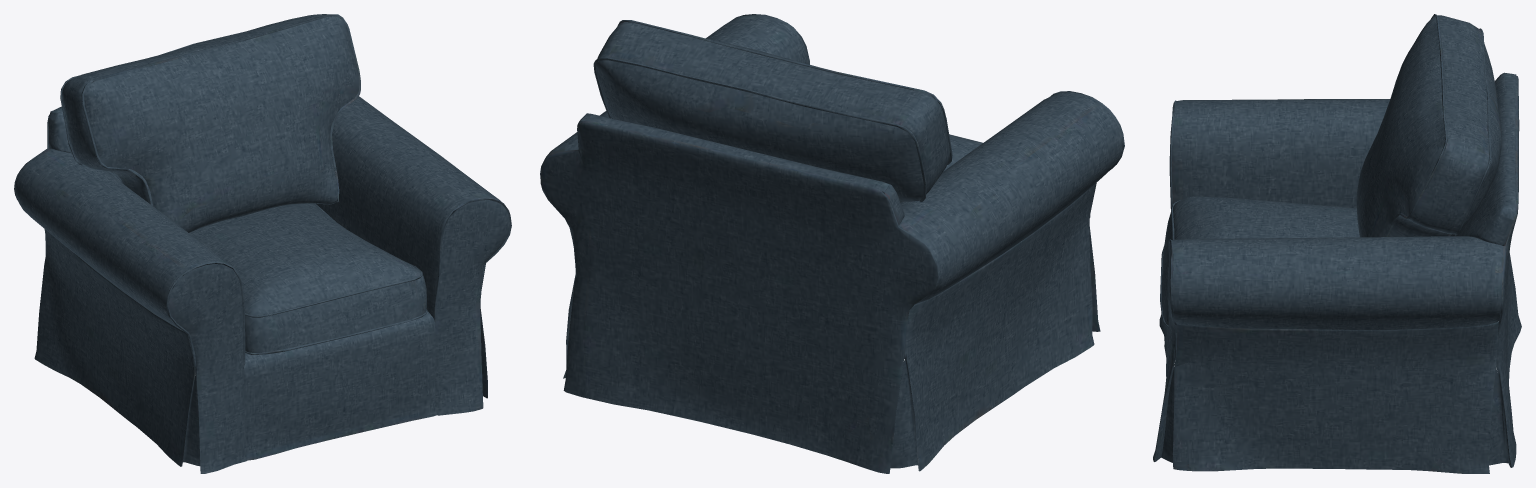
Rendered from uppland_armchair_kilanda_dark_blue.glb.
3 renders of one model, left to right at view 1: azimuth 30°, elevation 25°; view 2: azimuth 150°, elevation 25°; view 3: azimuth 270°, elevation 25°, orthographic. The views are drawn at different scales.
Parts seen in each view (by area): view 1: Mesh_0; view 2: Mesh_0; view 3: Mesh_0.
Boxes of the visible parts, x1,y1,x2,y2 form: Mesh_0: (14,14,511,473); Mesh_0: (540,14,1124,473); Mesh_0: (1153,14,1521,473).
Bounding box in the file's own units: 1.06 × 0.8833 × 0.9195.
1 material, 1 textured.
